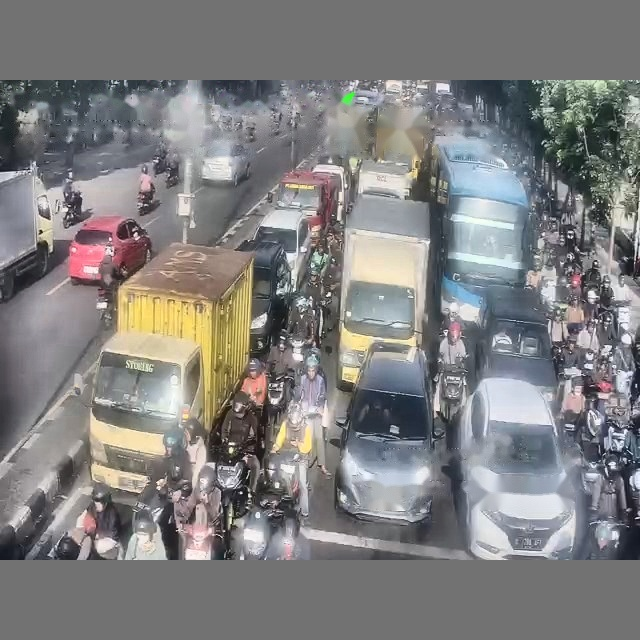Bis: (428, 136, 533, 322)
Mobil: (454, 378, 578, 559), (334, 342, 443, 526), (475, 287, 557, 404), (236, 240, 291, 355), (68, 216, 152, 283), (254, 209, 310, 290), (200, 138, 250, 186)
Motor: (213, 442, 249, 555), (439, 358, 467, 422), (267, 371, 294, 427), (58, 191, 82, 228), (96, 287, 114, 329), (137, 191, 153, 215), (165, 167, 180, 189), (152, 154, 166, 176)
Truk: (89, 243, 253, 492), (337, 195, 430, 390), (0, 165, 53, 301)
